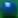blue: (0, 0, 18, 18)
